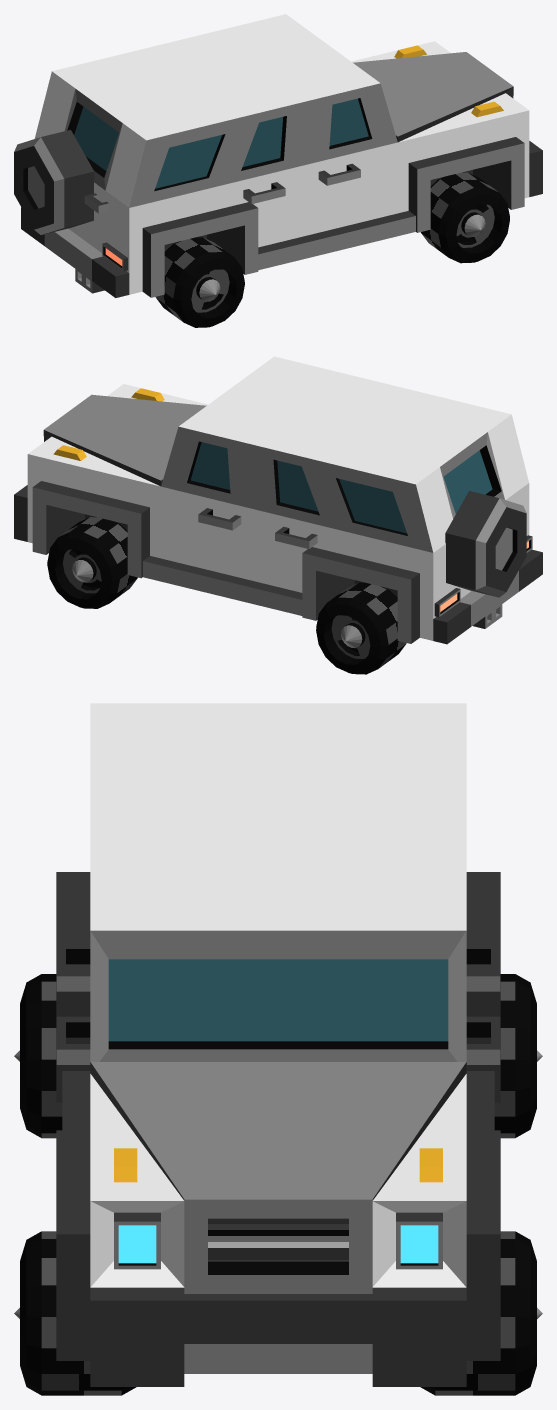
3 views of the same model, one above another, from view 1: azimuth 30°, elevation 25°; view 2: azimuth 150°, elevation 25°; view 3: azimuth 270°, elevation 25° (orthographic). The views are drawn at different scales.
Parts seen in each view (by area): view 1: other, body, wheel, glass; view 2: other, body, wheel, glass; view 3: other, body, glass, wheel, headlight.
Boxes of the visible parts, <box> form: other: <box>14,45,542,297</box>; body: <box>34,14,529,294</box>; wheel: <box>155,172,509,327</box>; glass: <box>74,98,368,188</box>; other: <box>14,388,542,644</box>; body: <box>27,356,529,640</box>; wheel: <box>47,517,406,674</box>; glass: <box>190,442,492,533</box>; other: <box>56,872,500,1386</box>; body: <box>90,703,466,1287</box>; glass: <box>108,959,448,1041</box>; wheel: <box>14,974,542,1395</box>; headlight: <box>118,1225,438,1263</box>.
Size of the model in its own units: 6.09 by 2.46 by 3.12.
Materials: 5 (2 with a texture image).
